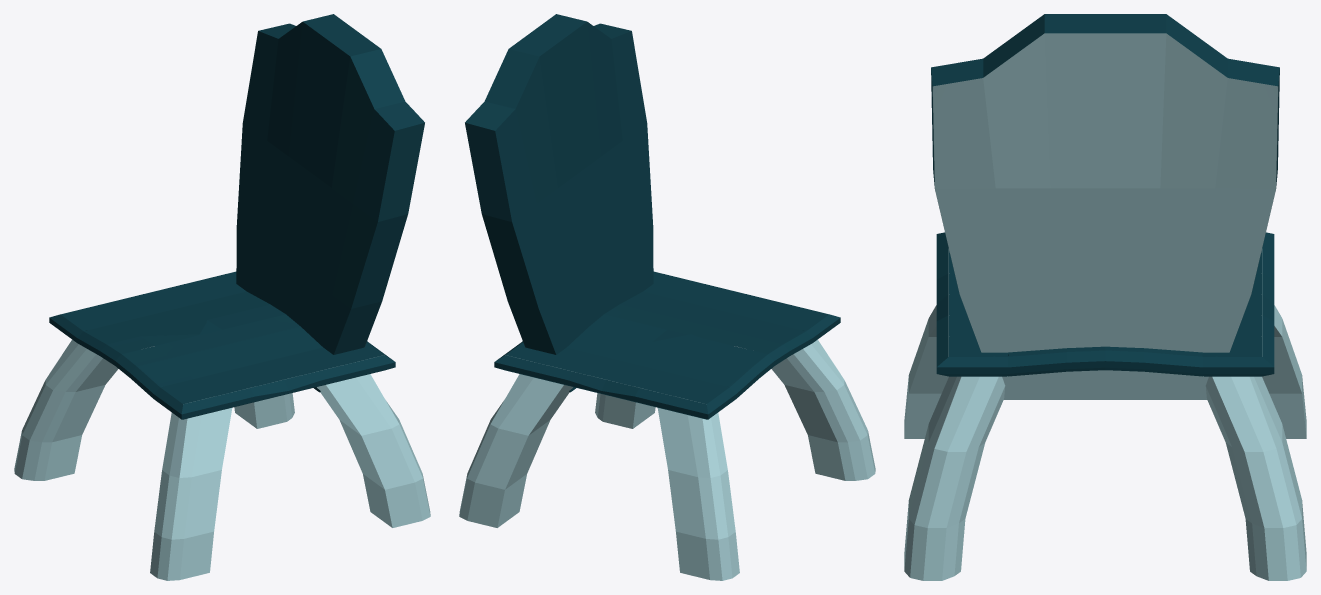
Rendered from chair.fbx.
3 views of the same model, side by side, from view 1: azimuth 30°, elevation 25°; view 2: azimuth 150°, elevation 25°; view 3: azimuth 270°, elevation 25° (orthographic). The views are drawn at different scales.
Parts seen in each view (by area): view 1: Cube; view 2: Cube; view 3: Cube.
Part boxes in pixels (<box>): Cube: <box>14,14,430,580</box>; Cube: <box>459,14,875,580</box>; Cube: <box>904,14,1306,580</box>.
Size of the model in its own units: 100 by 150 by 100.
